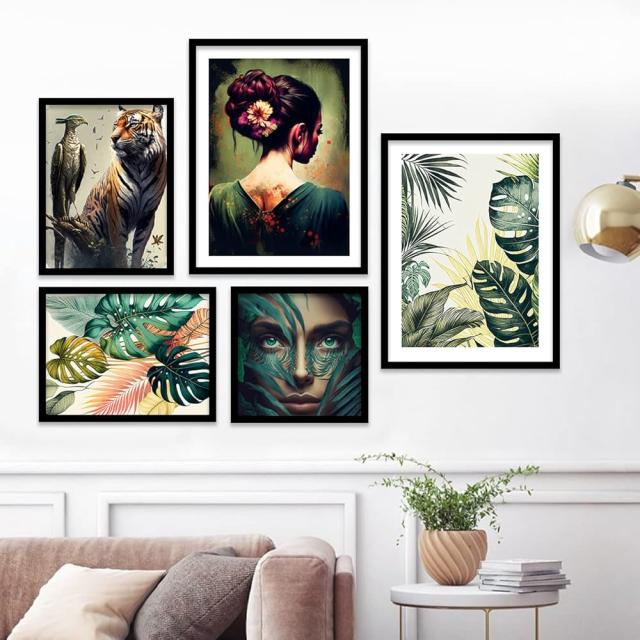painting: (188, 38, 368, 272), (380, 133, 560, 367), (38, 285, 218, 422), (38, 95, 174, 274), (231, 285, 369, 423)
